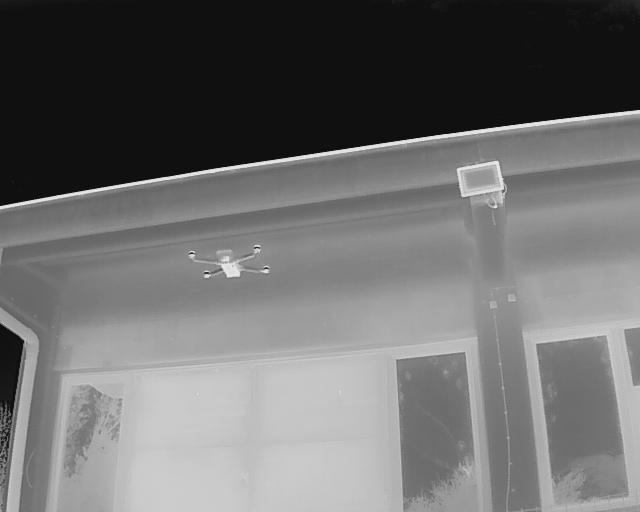drone: (171, 234, 286, 297)
